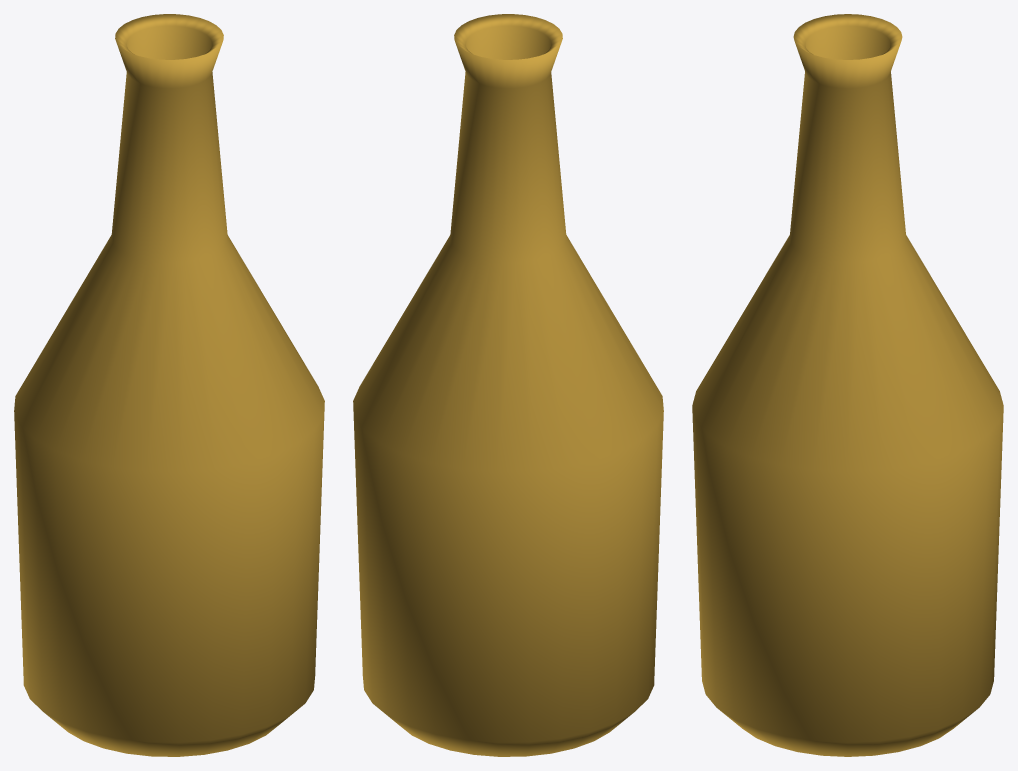
The model's file is i_vase_1_1.glb.
3 renders of one model, left to right at view 1: azimuth 30°, elevation 25°; view 2: azimuth 150°, elevation 25°; view 3: azimuth 270°, elevation 25°, orthographic.
Parts seen in each view (by area): view 1: o; view 2: o; view 3: o.
Part boxes in pixels (bbox=[...]): o: bbox=[14, 14, 324, 756]; o: bbox=[353, 14, 663, 756]; o: bbox=[692, 14, 1003, 756].
Bounding box in the file's own units: 0.16 × 0.38 × 0.16.
